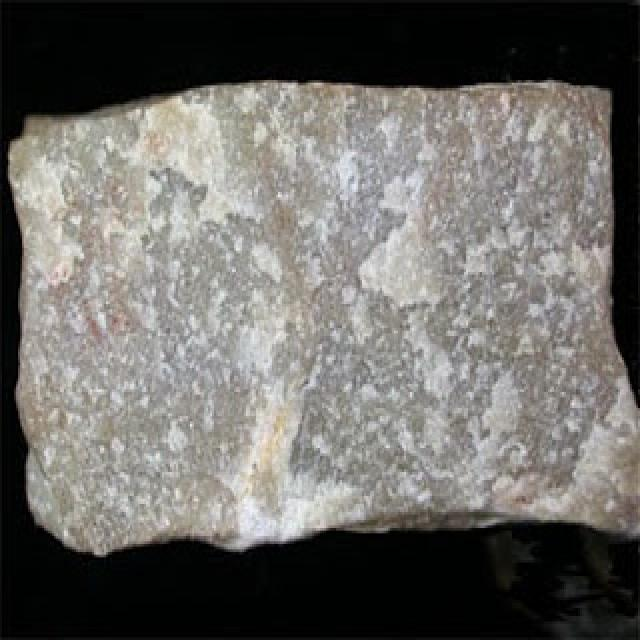Metamorphic: (2, 88, 636, 565)
